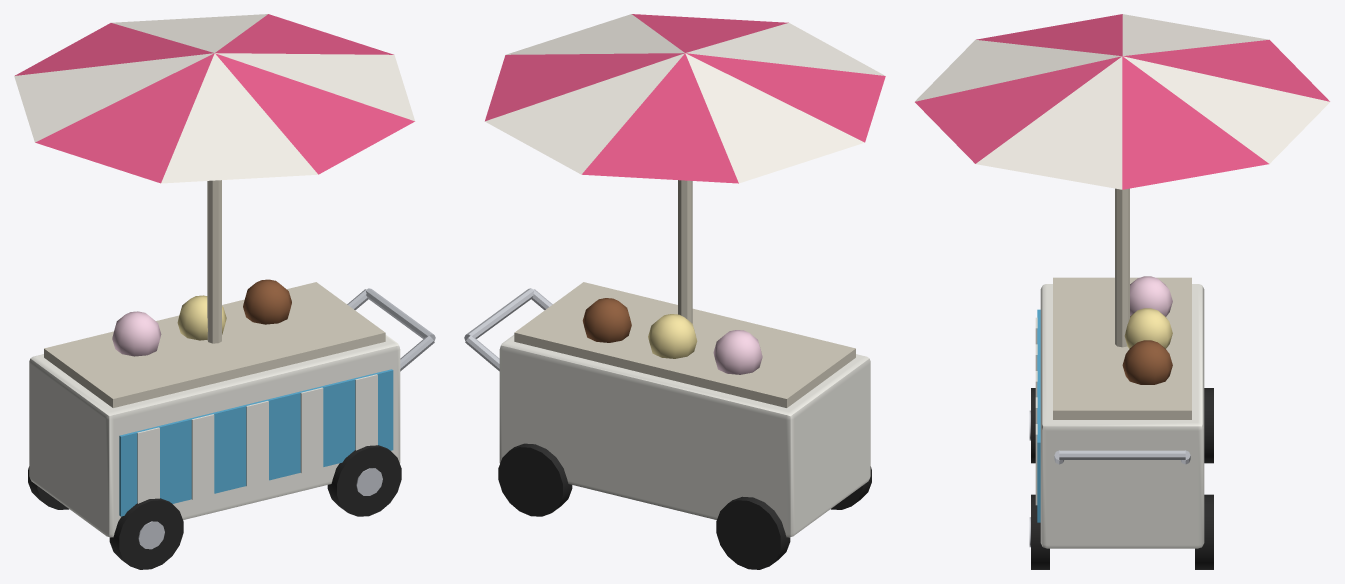
Rendered from ice-cream-cart.glb.
The picture shows the model from 3 angles, left to right: view 1: azimuth 30°, elevation 25°; view 2: azimuth 150°, elevation 25°; view 3: azimuth 270°, elevation 25°; orthographic projection.
Parts seen in each view (by area): view 1: part-cart, part-canopy-pink, part-canopy-white, part-lid, part-cart-panel, part-tyre, part-chrome, part-pole, part-scoop-0, part-scoop-2, part-scoop-1; view 2: part-cart, part-canopy-white, part-canopy-pink, part-lid, part-tyre, part-pole, part-scoop-1, part-scoop-0, part-scoop-2, part-chrome; view 3: part-canopy-pink, part-canopy-white, part-cart, part-lid, part-tyre, part-pole, part-scoop-2, part-chrome, part-scoop-1, part-scoop-0, part-cart-panel.
Part boxes in pixels (x1,y1,x2,y2): part-cart: [29, 335, 400, 537]; part-canopy-pink: [15, 14, 414, 183]; part-canopy-white: [14, 14, 414, 183]; part-lid: [44, 282, 385, 407]; part-cart-panel: [119, 369, 393, 516]; part-tyre: [28, 445, 401, 569]; part-chrome: [138, 288, 435, 549]; part-pole: [207, 180, 221, 343]; part-scoop-0: [112, 311, 161, 356]; part-scoop-2: [243, 279, 291, 324]; part-scoop-1: [177, 295, 226, 340]; part-cart: [499, 335, 870, 537]; part-canopy-white: [485, 14, 884, 183]; part-canopy-pink: [485, 14, 885, 183]; part-lid: [514, 282, 855, 407]; part-tyre: [498, 443, 871, 569]; part-pole: [678, 180, 692, 323]; part-scoop-1: [648, 314, 697, 358]; part-scoop-0: [713, 330, 762, 374]; part-scoop-2: [582, 298, 631, 342]; part-chrome: [464, 288, 552, 371]; part-canopy-pink: [915, 14, 1329, 189]; part-canopy-white: [915, 14, 1329, 189]; part-cart: [1035, 284, 1204, 548]; part-lid: [1053, 277, 1191, 419]; part-tyre: [1031, 388, 1213, 569]; part-pole: [1115, 188, 1129, 347]; part-scoop-2: [1122, 340, 1172, 384]; part-chrome: [1029, 410, 1190, 547]; part-scoop-1: [1124, 308, 1172, 348]; part-scoop-0: [1130, 276, 1172, 316]; part-cart-panel: [1037, 309, 1040, 522].
Bounding box in the file's own units: 67.8 × 80 × 66.
